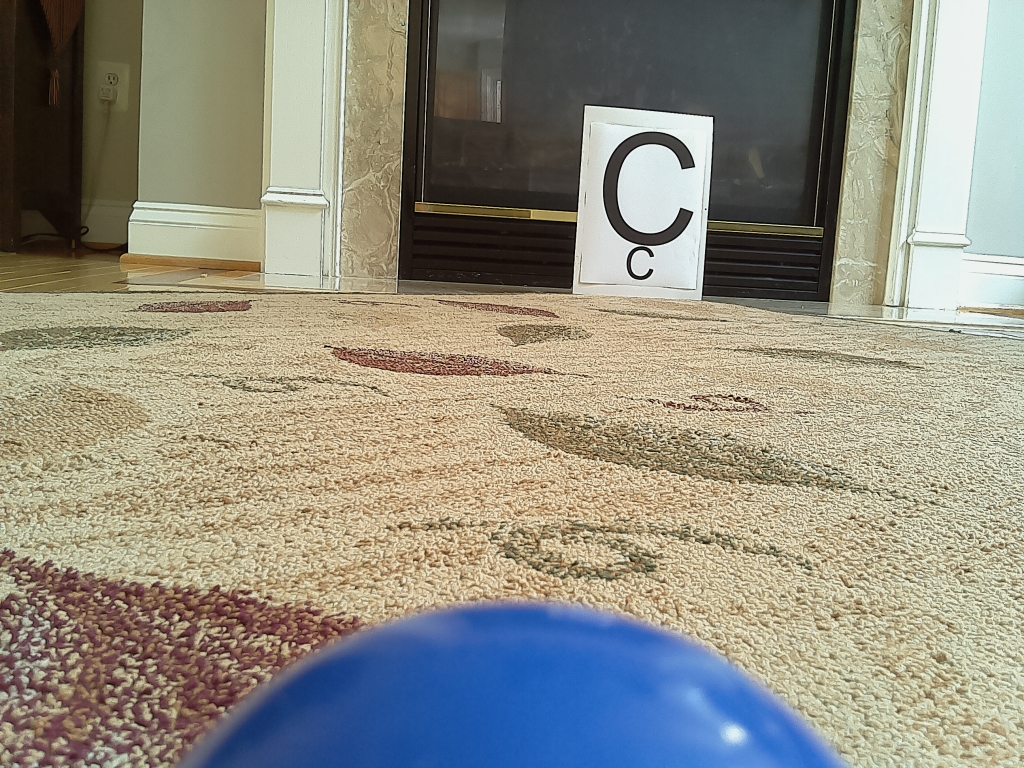letter: (602, 132, 694, 246)
